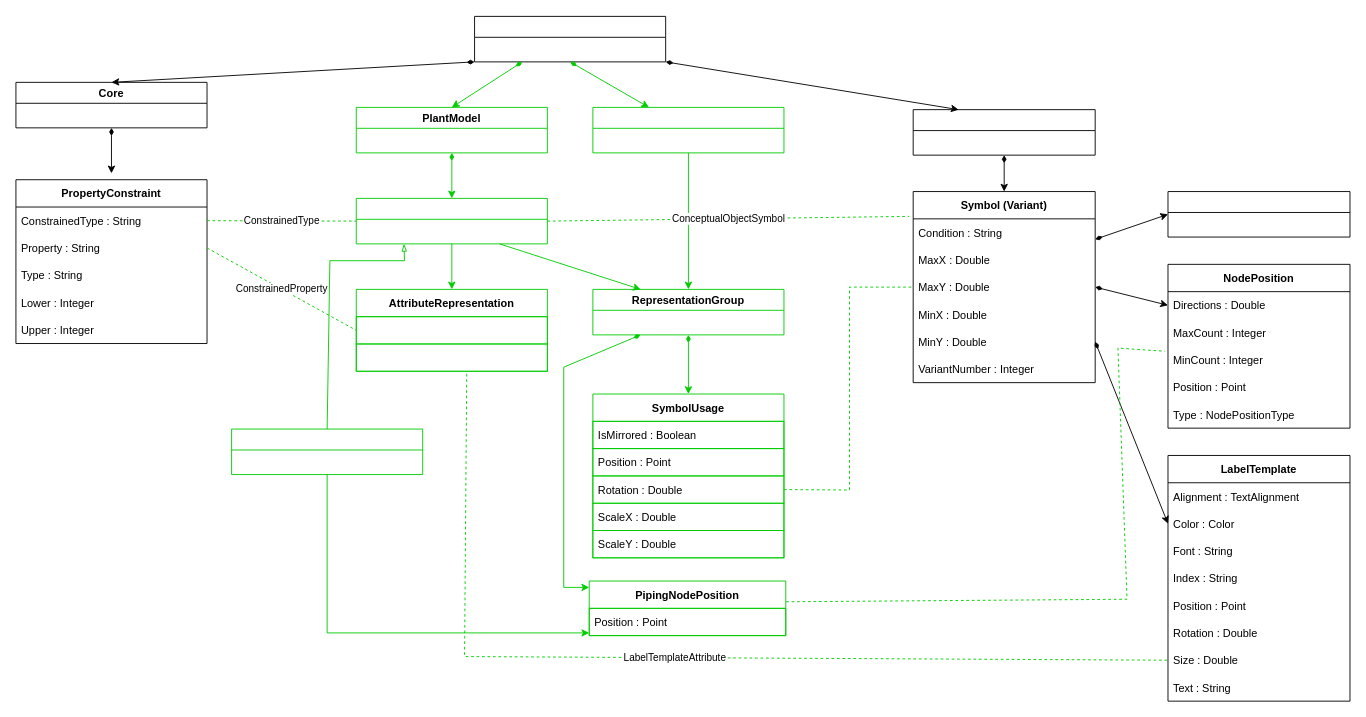
This 1366x717 diagram has some shape labels left out. The centre of each missing label's shape, as x and y in pixels:
AttributeName : String: (x=451, y=330)
ConceptualObject: (x=451, y=220)
Diagram: (x=688, y=129)
EngineeringModel: (x=570, y=38)
GraphicalPrimitives: (x=1258, y=214)
PipingNode: (x=327, y=451)
SymbolCatalogue: (x=1003, y=132)
Type : AttributeRepresentationType: (x=451, y=357)
